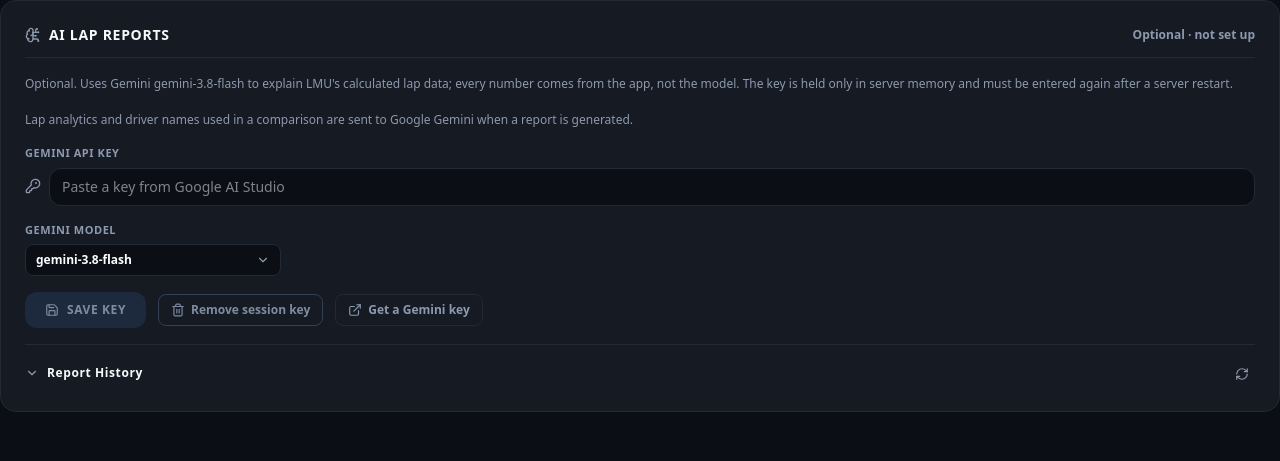
Scenario: Gemini key handling › says a rate limit in plain words and never repeats the key from the server message
Expected: the text "Optional · not set up" is shown, [1133, 27, 1255, 43]
Type "AIzaSyD-secret-key-0123456789" into the password field labelled "Gemini API key" at (652, 186), box [49, 168, 1255, 206]
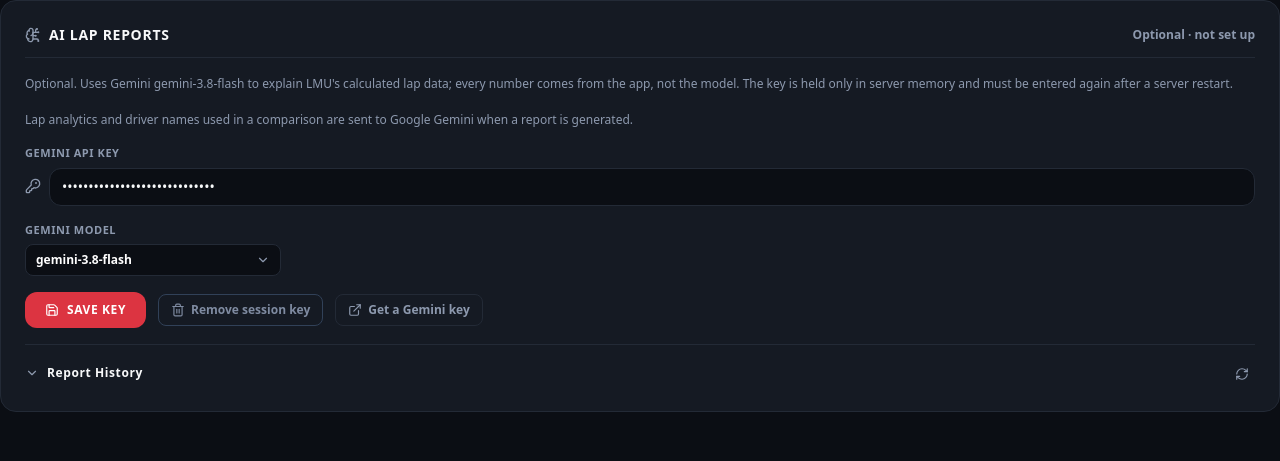
Click the button "Save Key" at (86, 310), box [25, 292, 146, 328]
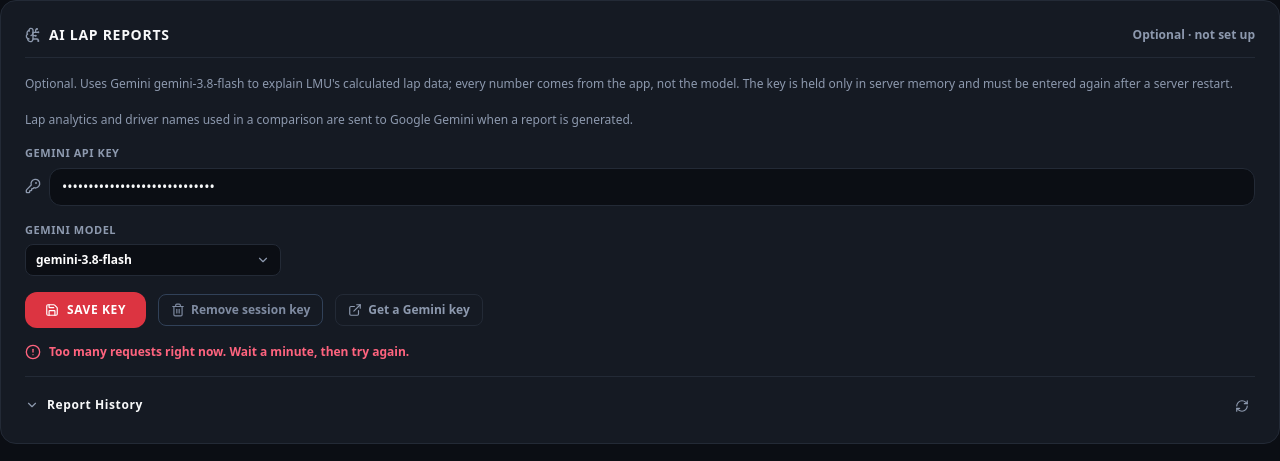
Result: the message reads "Too many requests right now. Wait a minute, then try again." at [49, 343, 409, 360]
